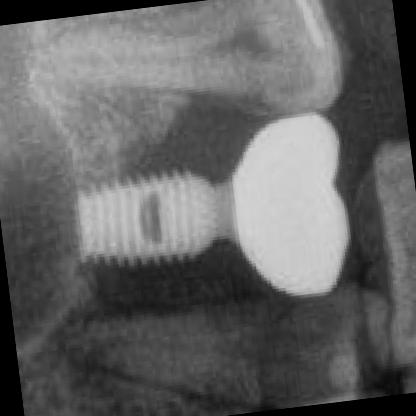Bicon: (59, 148, 207, 287)
